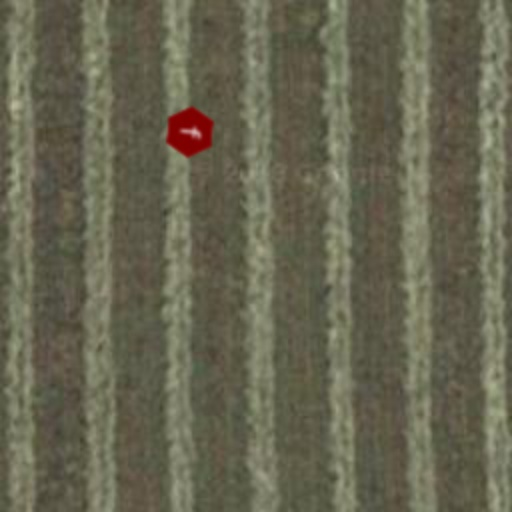hexagon: (160, 102, 220, 162)
